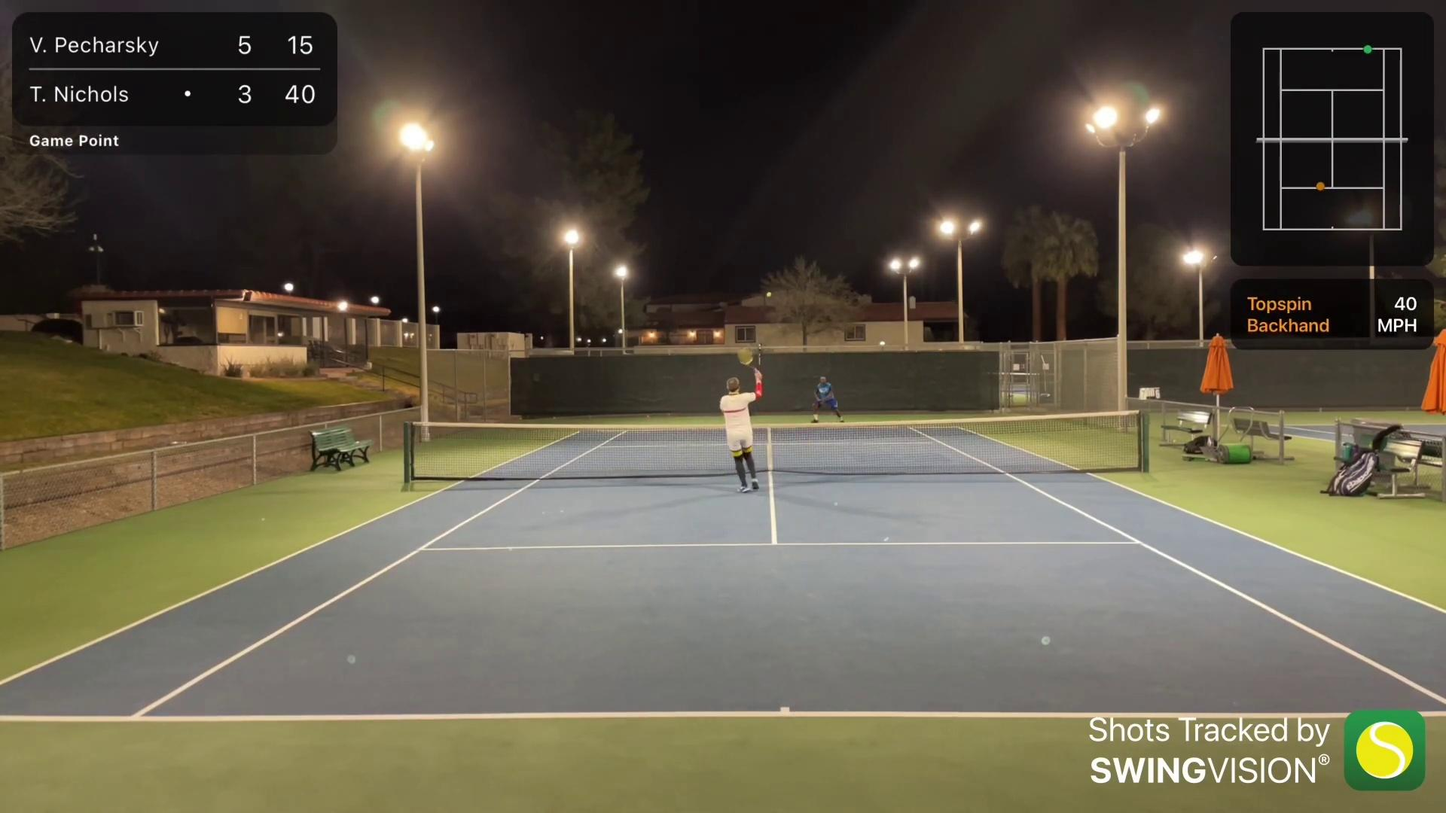ball: (764, 291, 772, 298)
